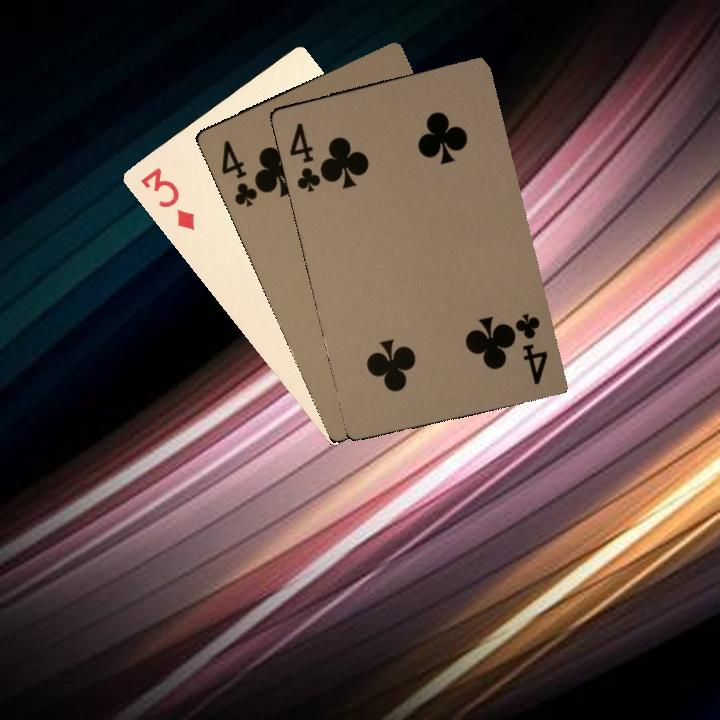3d: (136, 163, 198, 233)
4c: (217, 136, 266, 210), (507, 309, 551, 387), (285, 118, 329, 194)
